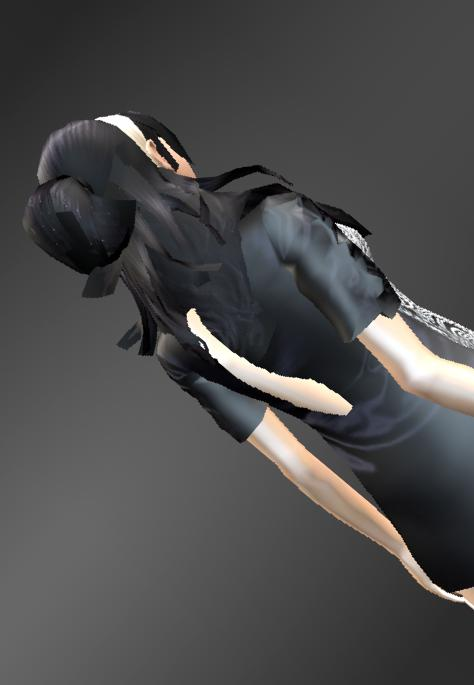clip: (180, 303, 257, 361)
